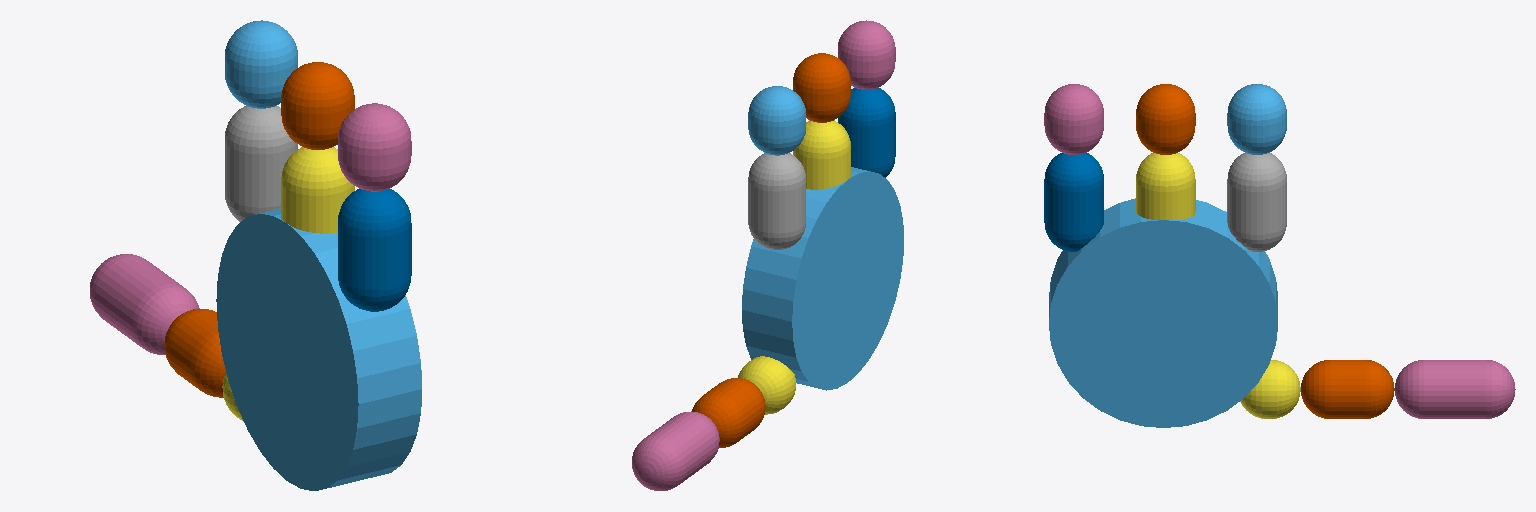
robot.urdf — DexterousHand:
<?xml version="1.0"?>
<robot name="DexterousHand">


    <link name="world"/>
    <joint name="world_to_palm" type="fixed">
        <parent link="world"/>
        <child link="palm"/>
        <origin xyz="0 0 0" rpy="0 0 0"/>
    </joint>
    <link name="palm">
        <inertial>
            <origin xyz="0 0 0.057" rpy="0 0 0"/>
            <mass value="0.30212892864"/>
            <inertia ixx="0.00049080844457568" ixy="0.0" ixz="0.0" iyy="0.00026746366246427523" iyz="0.0" izz="0.00026746366246427523"/>
        </inertial>
        <visual>
            <origin xyz="0 0 0.057" rpy="1.5708 0 1.5708"/>
            <geometry>
                <cylinder radius="0.057" length="0.0296"/>
            </geometry>
            <material name="default"/>
        </visual>
        <collision>
            <origin xyz="0 0 0.057" rpy="1.5708 0 1.5708"/>
            <geometry>
                <cylinder radius="0.057" length="0.0296"/>
            </geometry>
        </collision>
    </link>

    
    <joint name="thumb_joint1" type="revolute">
        <parent link="palm"/>
        <child link="thumb_base"/>
        <origin xyz="0.0029 0.0368 0.0157" rpy="-1.5708 -1.5708 0.0"/>
        <axis xyz="-1 0 0"/>
        <limit lower="-0.349" upper="2.094" effort="1.0" velocity="1.0"/>
    </joint>

    <link name="thumb_base"></link>

    <joint name="thumb_joint2" type="revolute">
        <parent link="thumb_base"/>
        <child link="thumb_proximal"/>
        <origin xyz="0.0 0.0 0.0" rpy="0.0 0.0 0.0"/>
        <axis xyz="0 0 1"/>
        <limit lower="-0.47" upper="2.443" effort="1.0" velocity="1.0"/>
    </joint>

    <link name="thumb_proximal">
        <inertial>
            <origin xyz="0 0 0.01565" rpy="0 0 0"/>
            <mass value="0.021538658803200002"/>
            <inertia ixx="2.9378910096388167e-06" ixy="0.0" ixz="0.0" 
            iyy="2.9378910096388167e-06" iyz="0.0" izz="2.358913912126464e-06"/>
        </inertial>
        <visual>
            <origin xyz="0 0 0.01565" rpy="0 0 0"/>
            <geometry>
                <cylinder radius="0.0148" length="0.0017000000000000001"/>
            </geometry>
            <material name="default"/>
        </visual>
        <visual>
            <origin xyz="0 0 0.0148" rpy="0 0 0"/>
            <geometry>
                <sphere radius="0.0148"/>
            </geometry>
            <material name="default"/>
        </visual>
        <visual>
            <origin xyz="0 0 0.0165" rpy="0 0 0"/>
            <geometry>
                <sphere radius="0.0148"/>
            </geometry>
            <material name="default"/>
        </visual>
        <collision>
            <origin xyz="0 0 0.01565" rpy="0 0 0"/>
            <geometry>
                <cylinder radius="0.0148" length="0.0017000000000000001"/>
            </geometry>
        </collision>
        <collision>
            <origin xyz="0 0 0.0148" rpy="0 0 0"/>
            <geometry>
                <sphere radius="0.0148"/>
            </geometry>
        </collision>
        <collision>
            <origin xyz="0 0 0.0165" rpy="0 0 0"/>
            <geometry>
                <sphere radius="0.0148"/>
            </geometry>
        </collision>
    </link>

    <joint name="thumb_joint3" type="revolute">
        <parent link="thumb_proximal"/>
        <child link="thumb_knuckle"/>
        <origin xyz="0.0 0.0 0.0313" rpy="0.0 0.0 0.0"/>
        <axis xyz="1 0 0"/>
        <limit lower="0.0" upper="0.0" effort="1.0" velocity="1.0"/>
    </joint>

    <link name="thumb_knuckle"></link>

    <joint name="thumb_joint4" type="revolute">
        <parent link="thumb_knuckle"/>
        <child link="thumb_middle"/>
        <origin xyz="0 0 0" rpy="0 0 0"/> 
        <axis xyz="0 1 0"/>
        <limit lower="-1.2" upper="1.9" effort="1.0" velocity="1.0"/>
    </joint>

    <link name="thumb_middle">
        <inertial>
            <origin xyz="0 0 0.0233" rpy="0 0 0"/>
            <mass value="0.032067140582400004"/>
            <inertia ixx="7.5589732685519385e-06" ixy="0.0" ixz="0.0" 
            iyy="7.5589732685519385e-06" iyz="0.0" izz="3.5119932365844485e-06"/>
        </inertial>
        <visual>
            <origin xyz="0 0 0.0233" rpy="0 0 0"/>
            <geometry>
                <cylinder radius="0.0148" length="0.017"/>
            </geometry>
            <material name="default"/>
        </visual>
        <visual>
            <origin xyz="0 0 0.0148" rpy="0 0 0"/>
            <geometry>
                <sphere radius="0.0148"/>
            </geometry>
            <material name="default"/>
        </visual>
        <visual>
            <origin xyz="0 0 0.0318" rpy="0 0 0"/>
            <geometry>
                <sphere radius="0.0148"/>
            </geometry>
            <material name="default"/>
        </visual>
        <collision>
            <origin xyz="0 0 0.0233" rpy="0 0 0"/>
            <geometry>
                <cylinder radius="0.0148" length="0.017"/>
            </geometry>
        </collision>
        <collision>
            <origin xyz="0 0 0.0148" rpy="0 0 0"/>
            <geometry>
                <sphere radius="0.0148"/>
            </geometry>
        </collision>
        <collision>
            <origin xyz="0 0 0.0318" rpy="0 0 0"/>
            <geometry>
                <sphere radius="0.0148"/>
            </geometry>
        </collision>
    </link>

    <joint name="thumb_joint5" type="revolute">
        <parent link="thumb_middle"/>
        <child link="thumb_distal"/>
        <origin xyz="0 0 0.0466" rpy="0 0 0"/> 
        <axis xyz="0 1 0"/>
        <limit lower="-1.34" upper="1.88" effort="1.0" velocity="1.0"/>
    </joint>

    <link name="thumb_distal">
        <inertial>
            <origin xyz="0 0 0.03" rpy="0 0 0"/>
            <mass value="0.04128816384"/>
            <inertia ixx="1.46473890038784e-05" ixy="0.0" ixz="0.0" 
            iyy="1.46473890038784e-05" iyz="0.0" izz="4.521879703756801e-06"/>
        </inertial>
        <visual>
            <origin xyz="0 0 0.03" rpy="0 0 0"/>
            <geometry>
                <cylinder radius="0.0148" length="0.030399999999999996"/>
            </geometry>
            <material name="default"/>
        </visual>
        <visual>
            <origin xyz="0 0 0.0148" rpy="0 0 0"/>
            <geometry>
                <sphere radius="0.0148"/>
            </geometry>
            <material name="default"/>
        </visual>
        <visual>
            <origin xyz="0 0 0.0452" rpy="0 0 0"/>
            <geometry>
                <sphere radius="0.0148"/>
            </geometry>
            <material name="default"/>
        </visual>
        <collision>
            <origin xyz="0 0 0.03" rpy="0 0 0"/>
            <geometry>
                <cylinder radius="0.0148" length="0.030399999999999996"/>
            </geometry>
        </collision>
        <collision>
            <origin xyz="0 0 0.0148" rpy="0 0 0"/>
            <geometry>
                <sphere radius="0.0148"/>
            </geometry>
        </collision>
        <collision>
            <origin xyz="0 0 0.0452" rpy="0 0 0"/>
            <geometry>
                <sphere radius="0.0148"/>
            </geometry>
        </collision>
    </link>

    
    <joint name="index_joint1" type="revolute">
        <parent link="palm"/>
        <child link="index_proximal"/>
        <origin xyz="0.0 0.0465 0.091" rpy="0.0 0.0 0.0"/>
        <axis xyz="0 1 0"/>
        <limit lower="-0.314" upper="2.23" effort="1.0" velocity="1.0"/>
    </joint>

    <link name="index_proximal">
        <inertial>
            <origin xyz="0 0 0.02655" rpy="0 0 0"/>
            <mass value="0.036540024998400006"/>
            <inertia ixx="1.058665009272394e-05" ixy="0.0" ixz="0.0" 
            iyy="1.058665009272394e-05" iyz="0.0" izz="4.001863537824769e-06"/>
        </inertial>
        <visual>
            <origin xyz="0 0 0.02655" rpy="0 0 0"/>
            <geometry>
                <cylinder radius="0.0148" length="0.0235"/>
            </geometry>
            <material name="default"/>
        </visual>
        <visual>
            <origin xyz="0 0 0.0148" rpy="0 0 0"/>
            <geometry>
                <sphere radius="0.0148"/>
            </geometry>
            <material name="default"/>
        </visual>
        <visual>
            <origin xyz="0 0 0.0383" rpy="0 0 0"/>
            <geometry>
                <sphere radius="0.0148"/>
            </geometry>
            <material name="default"/>
        </visual>
        <collision>
            <origin xyz="0 0 0.02655" rpy="0 0 0"/>
            <geometry>
                <cylinder radius="0.0148" length="0.0235"/>
            </geometry>
        </collision>
        <collision>
            <origin xyz="0 0 0.0148" rpy="0 0 0"/>
            <geometry>
                <sphere radius="0.0148"/>
            </geometry>
        </collision>
        <collision>
            <origin xyz="0 0 0.0383" rpy="0 0 0"/>
            <geometry>
                <sphere radius="0.0148"/>
            </geometry>
        </collision>
    </link>

    <joint name="index_joint2" type="revolute">
        <parent link="index_proximal"/>
        <child link="index_dummy"/>
        <origin xyz="0.0 0.0 0.038" rpy="0.0 0.0 0.0"/>
        <axis xyz="1 0 0"/>
        <limit lower="-1.047" upper="1.047" effort="1.0" velocity="1.0"/>
    </joint>

    <link name="index_dummy"></link>

    <joint name="index_joint3" type="revolute">
        <parent link="index_dummy"/>
        <child link="index_middle"/>
        <origin xyz="0 0 0.015100000000000002" rpy="0 0 0"/>
        <axis xyz="0 1 0"/>
        <limit lower="-0.506" upper="1.885" effort="1.0" velocity="1.0"/>
    </joint>

    <link name="index_middle">
        <inertial>
            <origin xyz="0 0 0.01805" rpy="0 0 0"/>
            <mass value="0.0248417119104"/>
            <inertia ixx="4.058162759109537e-06" ixy="0.0" ixz="0.0" 
            iyy="4.058162759109537e-06" iyz="0.0" izz="2.7206642884270085e-06"/>
        </inertial>
        <visual>
            <origin xyz="0 0 0.01805" rpy="0 0 0"/>
            <geometry>
                <cylinder radius="0.0148" length="0.006499999999999999"/>
            </geometry>
            <material name="default"/>
        </visual>
        <visual>
            <origin xyz="0 0 0.0148" rpy="0 0 0"/>
            <geometry>
                <sphere radius="0.0148"/>
            </geometry>
            <material name="default"/>
        </visual>
        <visual>
            <origin xyz="0 0 0.0213" rpy="0 0 0"/>
            <geometry>
                <sphere radius="0.0148"/>
            </geometry>
            <material name="default"/>
        </visual>
        <collision>
            <origin xyz="0 0 0.01805" rpy="0 0 0"/>
            <geometry>
                <cylinder radius="0.0148" length="0.006499999999999999"/>
            </geometry>
        </collision>
        <collision>
            <origin xyz="0 0 0.0148" rpy="0 0 0"/>
            <geometry>
                <sphere radius="0.0148"/>
            </geometry>
        </collision>
        <collision>
            <origin xyz="0 0 0.0213" rpy="0 0 0"/>
            <geometry>
                <sphere radius="0.0148"/>
            </geometry>
        </collision>
    </link>

    <joint name="index_joint4" type="revolute">
        <parent link="index_middle"/>
        <child link="index_distal"/>
        <origin xyz="0 0 0.0361" rpy="0 0 0"/> 
        <axis xyz="0 1 0"/>
        <limit lower="0.0" upper="0.0" effort="1.0" velocity="1.0"/>
    </joint>

    <link name="index_distal">
    </link>

    
    <joint name="middle_joint1" type="revolute">
        <parent link="palm"/>
        <child link="middle_proximal"/>
        <origin xyz="0.0 0.0011 0.091" rpy="0.0 0.0 0.0"/>
        <axis xyz="0 1 0"/>
        <limit lower="-0.314" upper="2.23" effort="1.0" velocity="1.0"/>
    </joint>

    <link name="middle_proximal">
        <inertial>
            <origin xyz="0 0 0.02655" rpy="0 0 0"/>
            <mass value="0.036540024998400006"/>
            <inertia ixx="1.058665009272394e-05" ixy="0.0" ixz="0.0" 
            iyy="1.058665009272394e-05" iyz="0.0" izz="4.001863537824769e-06"/>
        </inertial>
        <visual>
            <origin xyz="0 0 0.02655" rpy="0 0 0"/>
            <geometry>
                <cylinder radius="0.0148" length="0.0235"/>
            </geometry>
            <material name="default"/>
        </visual>
        <visual>
            <origin xyz="0 0 0.0148" rpy="0 0 0"/>
            <geometry>
                <sphere radius="0.0148"/>
            </geometry>
            <material name="default"/>
        </visual>
        <visual>
            <origin xyz="0 0 0.0383" rpy="0 0 0"/>
            <geometry>
                <sphere radius="0.0148"/>
            </geometry>
            <material name="default"/>
        </visual>
        <collision>
            <origin xyz="0 0 0.02655" rpy="0 0 0"/>
            <geometry>
                <cylinder radius="0.0148" length="0.0235"/>
            </geometry>
        </collision>
        <collision>
            <origin xyz="0 0 0.0148" rpy="0 0 0"/>
            <geometry>
                <sphere radius="0.0148"/>
            </geometry>
        </collision>
        <collision>
            <origin xyz="0 0 0.0383" rpy="0 0 0"/>
            <geometry>
                <sphere radius="0.0148"/>
            </geometry>
        </collision>
    </link>

    <joint name="middle_joint2" type="revolute">
        <parent link="middle_proximal"/>
        <child link="middle_dummy"/>
        <origin xyz="0.0 0.0 0.038" rpy="0.0 0.0 0.0"/>
        <axis xyz="1 0 0"/>
        <limit lower="-1.047" upper="1.047" effort="1.0" velocity="1.0"/>
    </joint>

    <link name="middle_dummy"></link>

    <joint name="middle_joint3" type="revolute">
        <parent link="middle_dummy"/>
        <child link="middle_middle"/>
        <origin xyz="0 0 0.015100000000000002" rpy="0 0 0"/>
        <axis xyz="0 1 0"/>
        <limit lower="-0.506" upper="1.885" effort="1.0" velocity="1.0"/>
    </joint>

    <link name="middle_middle">
        <inertial>
            <origin xyz="0 0 0.01805" rpy="0 0 0"/>
            <mass value="0.0248417119104"/>
            <inertia ixx="4.058162759109537e-06" ixy="0.0" ixz="0.0" 
            iyy="4.058162759109537e-06" iyz="0.0" izz="2.7206642884270085e-06"/>
        </inertial>
        <visual>
            <origin xyz="0 0 0.01805" rpy="0 0 0"/>
            <geometry>
                <cylinder radius="0.0148" length="0.006499999999999999"/>
            </geometry>
            <material name="default"/>
        </visual>
        <visual>
            <origin xyz="0 0 0.0148" rpy="0 0 0"/>
            <geometry>
                <sphere radius="0.0148"/>
            </geometry>
            <material name="default"/>
        </visual>
        <visual>
            <origin xyz="0 0 0.0213" rpy="0 0 0"/>
            <geometry>
                <sphere radius="0.0148"/>
            </geometry>
            <material name="default"/>
        </visual>
        <collision>
            <origin xyz="0 0 0.01805" rpy="0 0 0"/>
            <geometry>
                <cylinder radius="0.0148" length="0.006499999999999999"/>
            </geometry>
        </collision>
        <collision>
            <origin xyz="0 0 0.0148" rpy="0 0 0"/>
            <geometry>
                <sphere radius="0.0148"/>
            </geometry>
        </collision>
        <collision>
            <origin xyz="0 0 0.0213" rpy="0 0 0"/>
            <geometry>
                <sphere radius="0.0148"/>
            </geometry>
        </collision>
    </link>

    <joint name="middle_joint4" type="revolute">
        <parent link="middle_middle"/>
        <child link="middle_distal"/>
        <origin xyz="0 0 0.0361" rpy="0 0 0"/> 
        <axis xyz="0 1 0"/>
        <limit lower="0.0" upper="0.0" effort="1.0" velocity="1.0"/>
    </joint>

    <link name="middle_distal">
    </link>

    
    <joint name="ring_joint1" type="revolute">
        <parent link="palm"/>
        <child link="ring_proximal"/>
        <origin xyz="0.0 0.0 0.0" rpy="0.0 0.0 0.0"/>
        <axis xyz="1 0 0"/>
        <limit lower="0.0" upper="0.0" effort="1.0" velocity="1.0"/>
    </joint>

    <link name="ring_proximal">
    </link>

    <joint name="ring_joint2" type="revolute">
        <parent link="ring_proximal"/>
        <child link="ring_dummy"/>
        <origin xyz="0.0 0.0 0.0" rpy="0.0 0.0 0.0"/>
        <axis xyz="0 1 0"/>
        <limit lower="0.0" upper="0.0" effort="1.0" velocity="1.0"/>
    </joint>

    <link name="ring_dummy"></link>

    <joint name="ring_joint3" type="revolute">
        <parent link="ring_dummy"/>
        <child link="ring_middle"/>
        <origin xyz="0 0 0" rpy="0 0 0"/>
        <axis xyz="0 1 0"/>
        <limit lower="0.0" upper="0.0" effort="1.0" velocity="1.0"/>
    </joint>

    <link name="ring_middle">
    </link>

    <joint name="ring_joint4" type="revolute">
        <parent link="ring_middle"/>
        <child link="ring_distal"/>
        <origin xyz="0 0 0" rpy="0 0 0"/> 
        <axis xyz="0 1 0"/>
        <limit lower="0.0" upper="0.0" effort="1.0" velocity="1.0"/>
    </joint>

    <link name="ring_distal">
    </link>

    
    <joint name="little_joint0" type="revolute">
        <parent link="palm"/>
        <child link="little_base"/>
        <origin xyz="0.0 0.0 0.0" rpy="0.0 0.0 0.0"/>
        <axis xyz="0 1 0"/>
        <limit lower="0.0" upper="0.0" effort="1.0" velocity="1.0"/>
    </joint>

    <link name="little_base"></link>

    <joint name="little_joint1" type="revolute">
        <parent link="little_base"/>
        <child link="little_proximal"/>
        <origin xyz="0.0 -0.0443 0.091" rpy="-0.0 -0.0 -0.0"/>
        <axis xyz="0 1 0"/>
        <limit lower="-0.314" upper="2.23" effort="1.0" velocity="1.0"/>
    </joint>

    <link name="little_proximal">
        <inertial>
            <origin xyz="0 0 0.02655" rpy="0 0 0"/>
            <mass value="0.036540024998400006"/>
            <inertia ixx="1.058665009272394e-05" ixy="0.0" ixz="0.0" 
            iyy="1.058665009272394e-05" iyz="0.0" izz="4.001863537824769e-06"/>
        </inertial>
        <visual>
            <origin xyz="0 0 0.02655" rpy="0 0 0"/>
            <geometry>
                <cylinder radius="0.0148" length="0.0235"/>
            </geometry>
            <material name="default"/>
        </visual>
        <visual>
            <origin xyz="0 0 0.0148" rpy="0 0 0"/>
            <geometry>
                <sphere radius="0.0148"/>
            </geometry>
            <material name="default"/>
        </visual>
        <visual>
            <origin xyz="0 0 0.0383" rpy="0 0 0"/>
            <geometry>
                <sphere radius="0.0148"/>
            </geometry>
            <material name="default"/>
        </visual>
        <collision>
            <origin xyz="0 0 0.02655" rpy="0 0 0"/>
            <geometry>
                <cylinder radius="0.0148" length="0.0235"/>
            </geometry>
        </collision>
        <collision>
            <origin xyz="0 0 0.0148" rpy="0 0 0"/>
            <geometry>
                <sphere radius="0.0148"/>
            </geometry>
        </collision>
        <collision>
            <origin xyz="0 0 0.0383" rpy="0 0 0"/>
            <geometry>
                <sphere radius="0.0148"/>
            </geometry>
        </collision>
    </link>

    <joint name="little_joint2" type="revolute">
        <parent link="little_proximal"/>
        <child link="little_dummy"/>
        <origin xyz="0.0 0.0 0.038" rpy="0.0 0.0 0.0"/>
        <axis xyz="1 0 0"/>
        <limit lower="-1.047" upper="1.047" effort="1.0" velocity="1.0"/>
    </joint>

    <link name="little_dummy"></link>

    <joint name="little_joint3" type="revolute">
        <parent link="little_dummy"/>
        <child link="little_middle"/>
        <origin xyz="0 0 0.015100000000000002" rpy="0 0 0"/>
        <axis xyz="0 1 0"/>
        <limit lower="-0.506" upper="1.885" effort="1.0" velocity="1.0"/>
    </joint>

    <link name="little_middle">
        <inertial>
            <origin xyz="0 0 0.01805" rpy="0 0 0"/>
            <mass value="0.0248417119104"/>
            <inertia ixx="4.058162759109537e-06" ixy="0.0" ixz="0.0" 
            iyy="4.058162759109537e-06" iyz="0.0" izz="2.7206642884270085e-06"/>
        </inertial>
        <visual>
            <origin xyz="0 0 0.01805" rpy="0 0 0"/>
            <geometry>
                <cylinder radius="0.0148" length="0.006499999999999999"/>
            </geometry>
            <material name="default"/>
        </visual>
        <visual>
            <origin xyz="0 0 0.0148" rpy="0 0 0"/>
            <geometry>
                <sphere radius="0.0148"/>
            </geometry>
            <material name="default"/>
        </visual>
        <visual>
            <origin xyz="0 0 0.0213" rpy="0 0 0"/>
            <geometry>
                <sphere radius="0.0148"/>
            </geometry>
            <material name="default"/>
        </visual>
        <collision>
            <origin xyz="0 0 0.01805" rpy="0 0 0"/>
            <geometry>
                <cylinder radius="0.0148" length="0.006499999999999999"/>
            </geometry>
        </collision>
        <collision>
            <origin xyz="0 0 0.0148" rpy="0 0 0"/>
            <geometry>
                <sphere radius="0.0148"/>
            </geometry>
        </collision>
        <collision>
            <origin xyz="0 0 0.0213" rpy="0 0 0"/>
            <geometry>
                <sphere radius="0.0148"/>
            </geometry>
        </collision>
    </link>

    <joint name="little_joint4" type="revolute">
        <parent link="little_middle"/>
        <child link="little_distal"/>
        <origin xyz="0 0 0.0361" rpy="0 0 0"/>
        <axis xyz="0 1 0"/>
        <limit lower="0.0" upper="0.0" effort="1.0" velocity="1.0"/>
    </joint>

    <link name="little_distal">
    </link>

</robot>

--- Facts derived from the render (not from the file) ---
The picture shows the robot from 3 angles, left to right: view 1: azimuth 30°, elevation 25°; view 2: azimuth 150°, elevation 25°; view 3: azimuth 270°, elevation 25°; orthographic projection.
Model DexterousHand with 24 links and 23 joints (22 revolute, 1 fixed), rooted at world, posed all joints at 0.
Visible links, largest first — view 1: palm, little_proximal, thumb_distal, index_proximal, little_middle, middle_middle, index_middle, middle_proximal, thumb_middle; view 2: palm, index_proximal, thumb_distal, little_proximal, index_middle, thumb_middle, middle_middle, little_middle, middle_proximal, thumb_proximal; view 3: palm, thumb_distal, index_proximal, little_proximal, thumb_middle, middle_proximal, little_middle, index_middle, middle_middle, thumb_proximal.
Link boxes in pixels (x1,y1,x2,y2): palm: (216,209,421,490); little_proximal: (338,189,411,311); thumb_distal: (90,254,199,354); index_proximal: (225,106,297,221); little_middle: (338,103,411,191); middle_middle: (281,62,354,149); index_middle: (225,20,297,108); middle_proximal: (281,147,354,233); thumb_middle: (164,309,225,397); palm: (742,167,903,390); index_proximal: (748,153,805,249); thumb_distal: (632,411,719,490); little_proximal: (838,88,895,177); index_middle: (748,86,805,155); thumb_middle: (692,378,765,447); middle_middle: (793,53,850,122); little_middle: (838,20,895,89); middle_proximal: (793,120,850,189); thumb_proximal: (738,356,795,414); palm: (1049,198,1277,427); thumb_distal: (1395,360,1515,418); index_proximal: (1227,153,1286,251); little_proximal: (1044,153,1103,251); thumb_middle: (1301,360,1394,418); middle_proximal: (1136,153,1195,220); little_middle: (1044,84,1103,154); index_middle: (1227,84,1286,154); middle_middle: (1136,84,1195,154); thumb_proximal: (1240,360,1300,418).
Size in the robot's own frame: 0.0325 by 0.2338 by 0.1802 metres.
Geometry: primitives only (box / cylinder / sphere), no mesh files.
